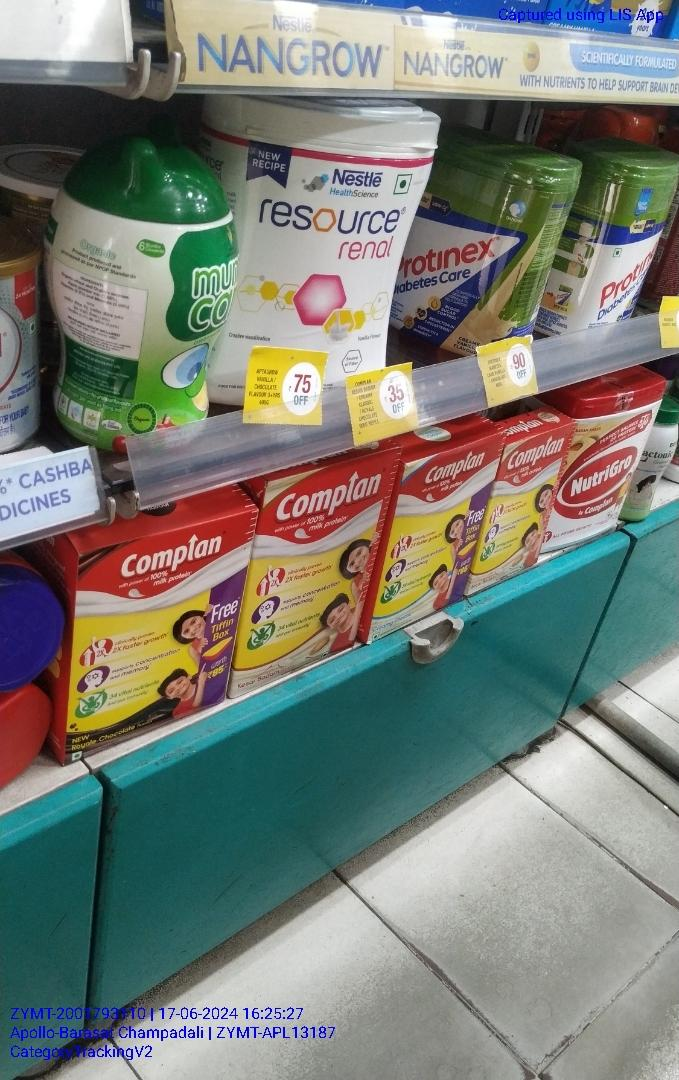COMPLAN_CHOCOLATE_500_GMS_PACK: (67, 515, 224, 709)
COMPLAN_KESAR_BADAM_500_GMS_PACK: (235, 476, 364, 695)
